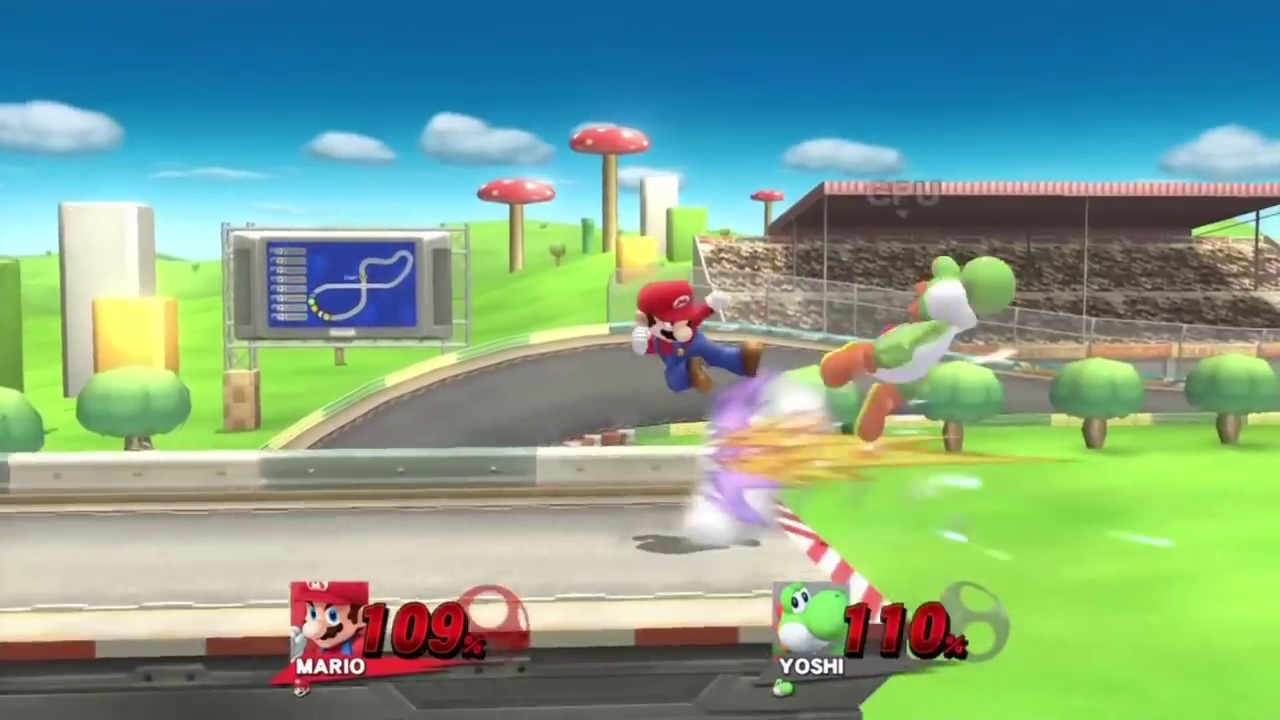Mario: (634, 281, 762, 394)
